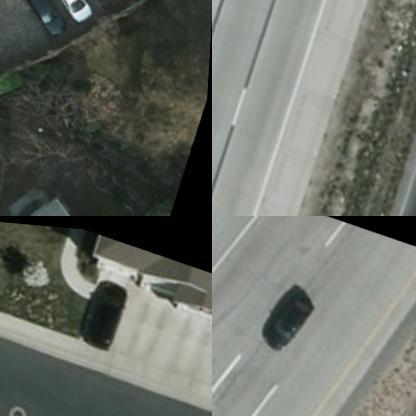car: (259, 276, 319, 361), (80, 273, 128, 346), (15, 0, 74, 36), (47, 0, 104, 21)
